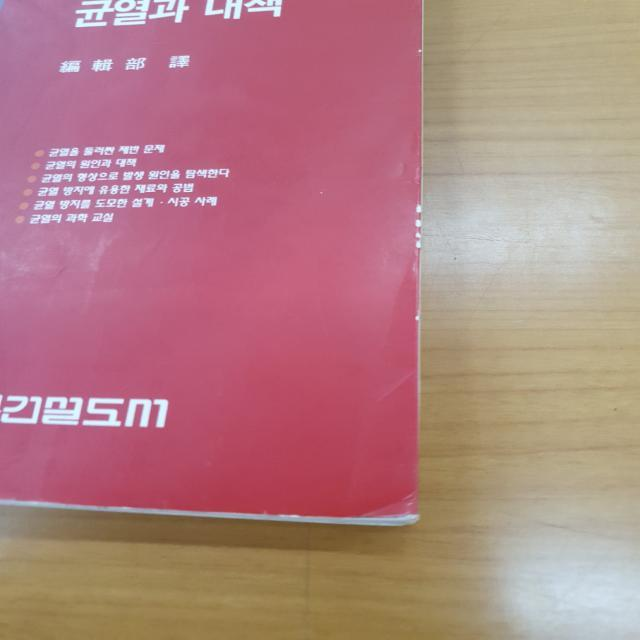Wornout: (341, 507, 423, 521), (260, 508, 323, 522), (412, 200, 427, 251), (115, 500, 137, 514), (411, 313, 426, 325), (412, 46, 427, 58)
